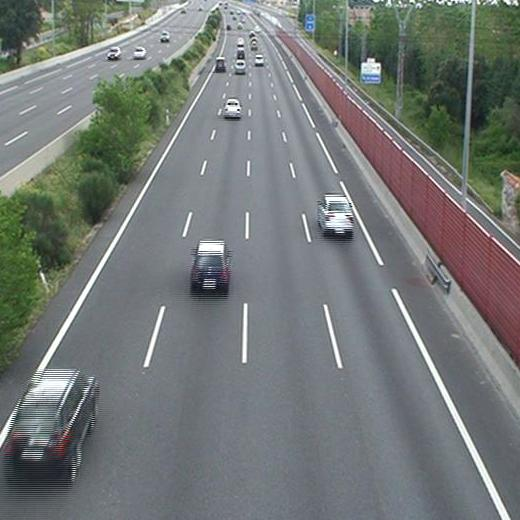car: (7, 374, 97, 477), (192, 242, 229, 289), (319, 195, 353, 234), (224, 98, 241, 116), (234, 61, 246, 74), (235, 49, 245, 61), (216, 58, 226, 69), (254, 54, 264, 65), (237, 36, 245, 46)
